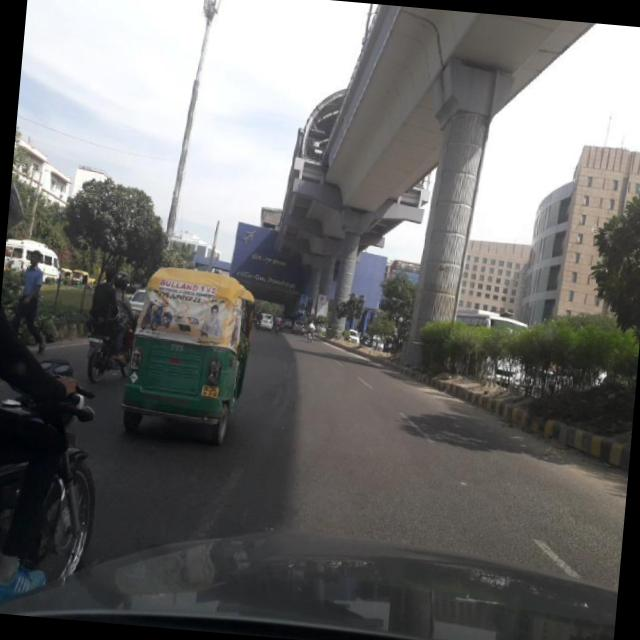crack: (346, 434, 615, 578)
